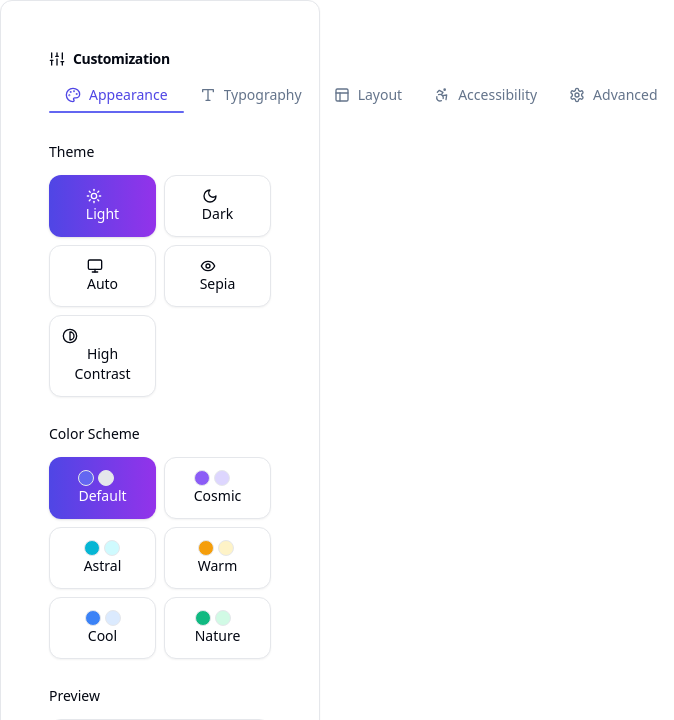
Scenario: Enhanced Note Editor - Accessibility Tests › Large Text Support › should adjust font size dynamically
Click the tab "Typography" at (251, 96), box left=184, top=77, right=318, bottom=115
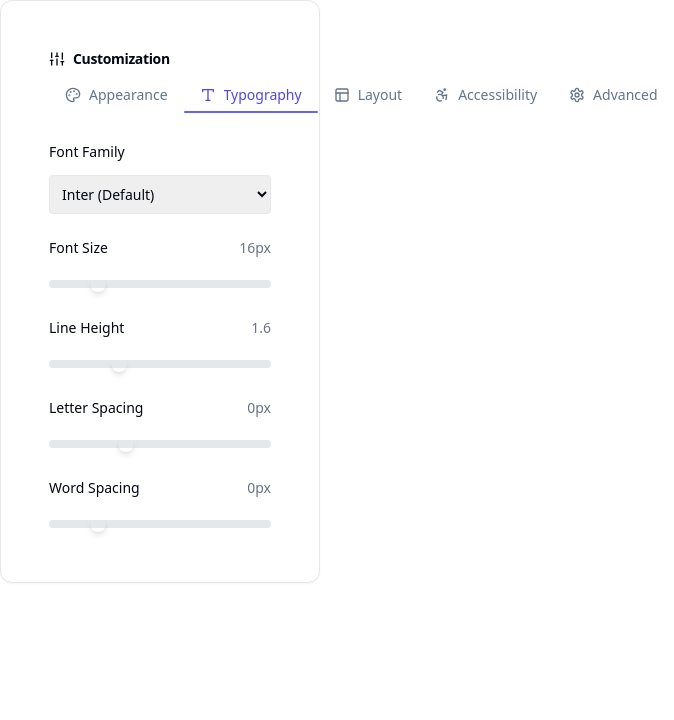
Now the text "Font Size" is shown, box left=49, top=238, right=108, bottom=258
